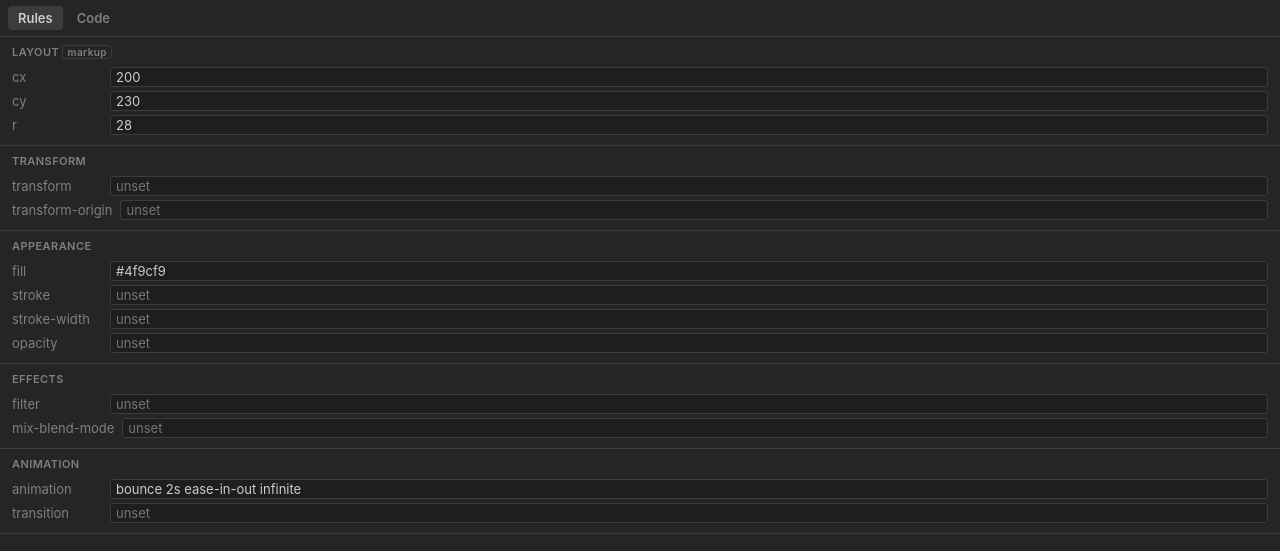
it: RightPanel — Rules tab editing (Phase 4.2) › Escape restores the buffer value without writing
Replace the text in the field named "fill" with "red" at [689, 271], box [110,261,1268,281]
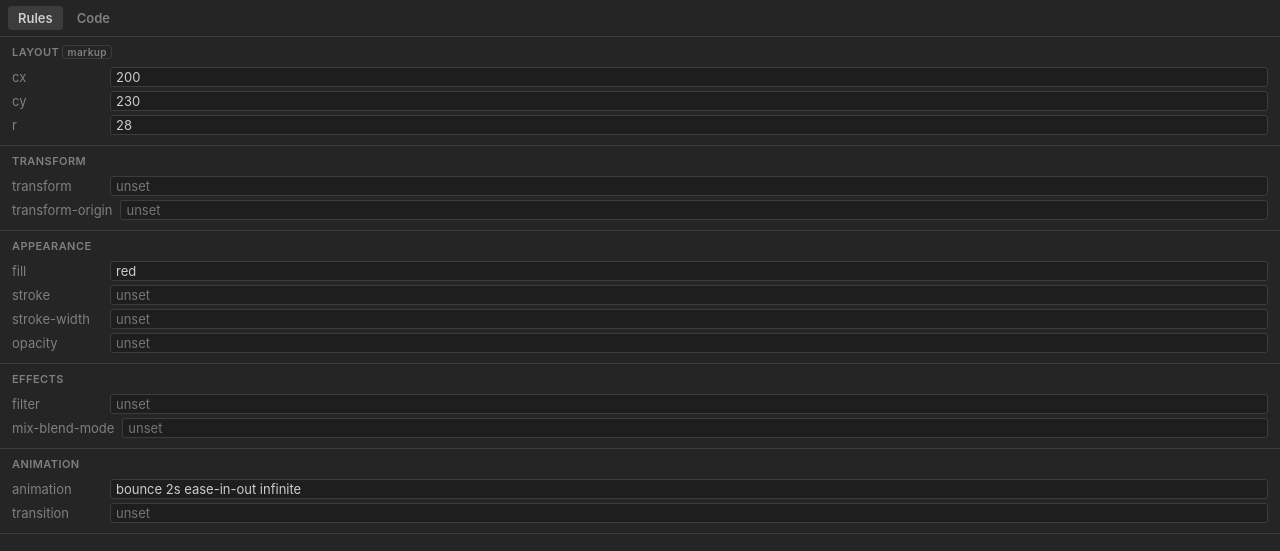
Press Escape in the field named "fill", box [110,261,1268,281]
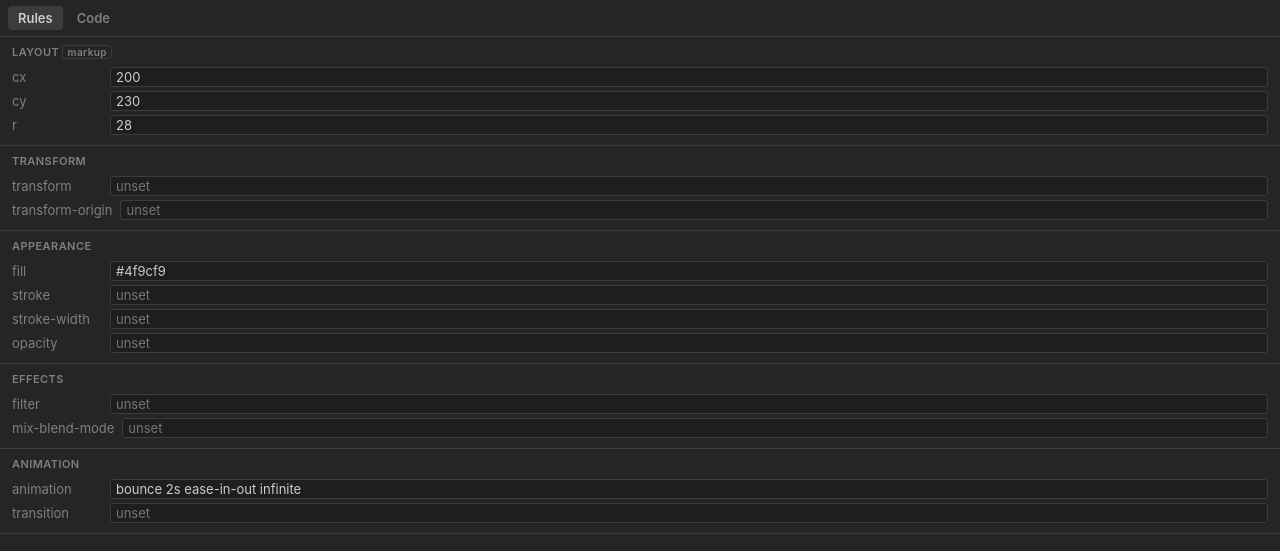
Now the field named "fill" holds "#4f9cf9", box [110,261,1268,281]
